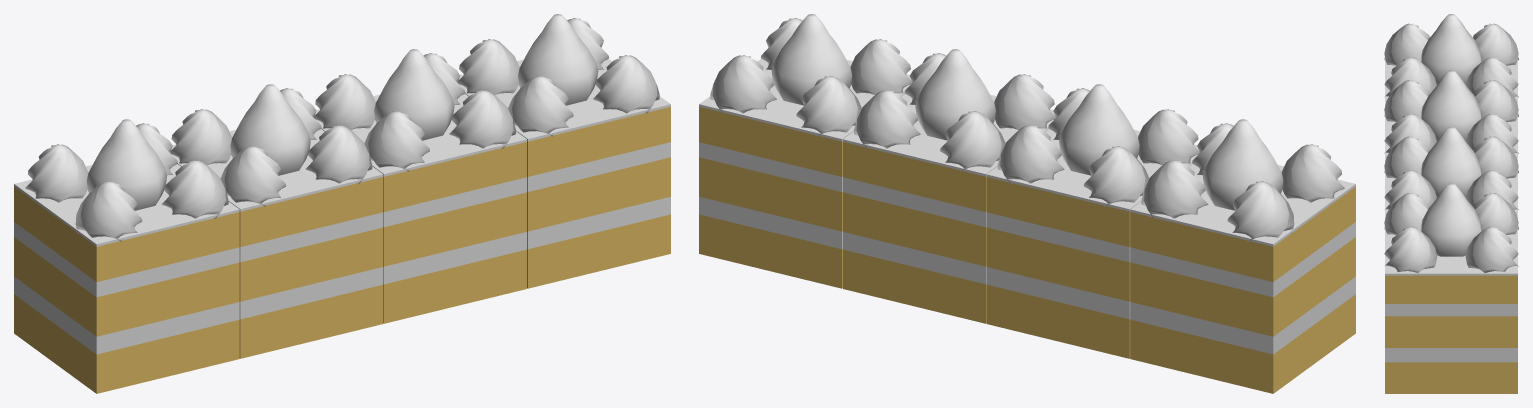
The model's file is cake_4.fbx.
3 renders of one model, left to right at view 1: azimuth 30°, elevation 25°; view 2: azimuth 150°, elevation 25°; view 3: azimuth 270°, elevation 25°, orthographic. The views are drawn at different scales.
Parts seen in each view (by area): view 1: 立方体.005; view 2: 立方体.005; view 3: 立方体.005.
Part boxes in pixels (x1,y1,x2,y2): 立方体.005: (14,14,670,393); 立方体.005: (699,14,1355,393); 立方体.005: (1384,14,1518,393).
Size of the model in its own units: 57.55 by 21.52 by 14.54.
